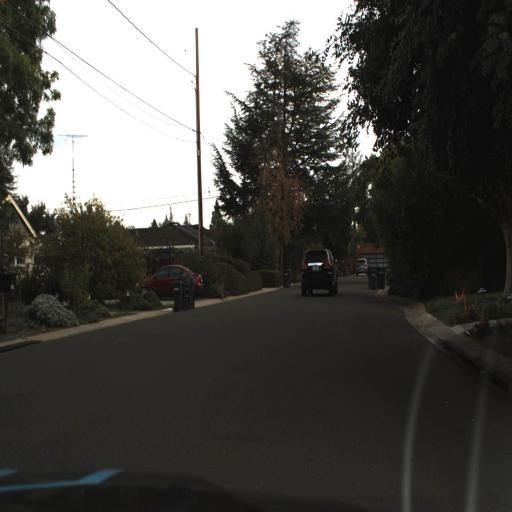car: (293, 225, 344, 311), (132, 252, 209, 306), (352, 252, 370, 280)
